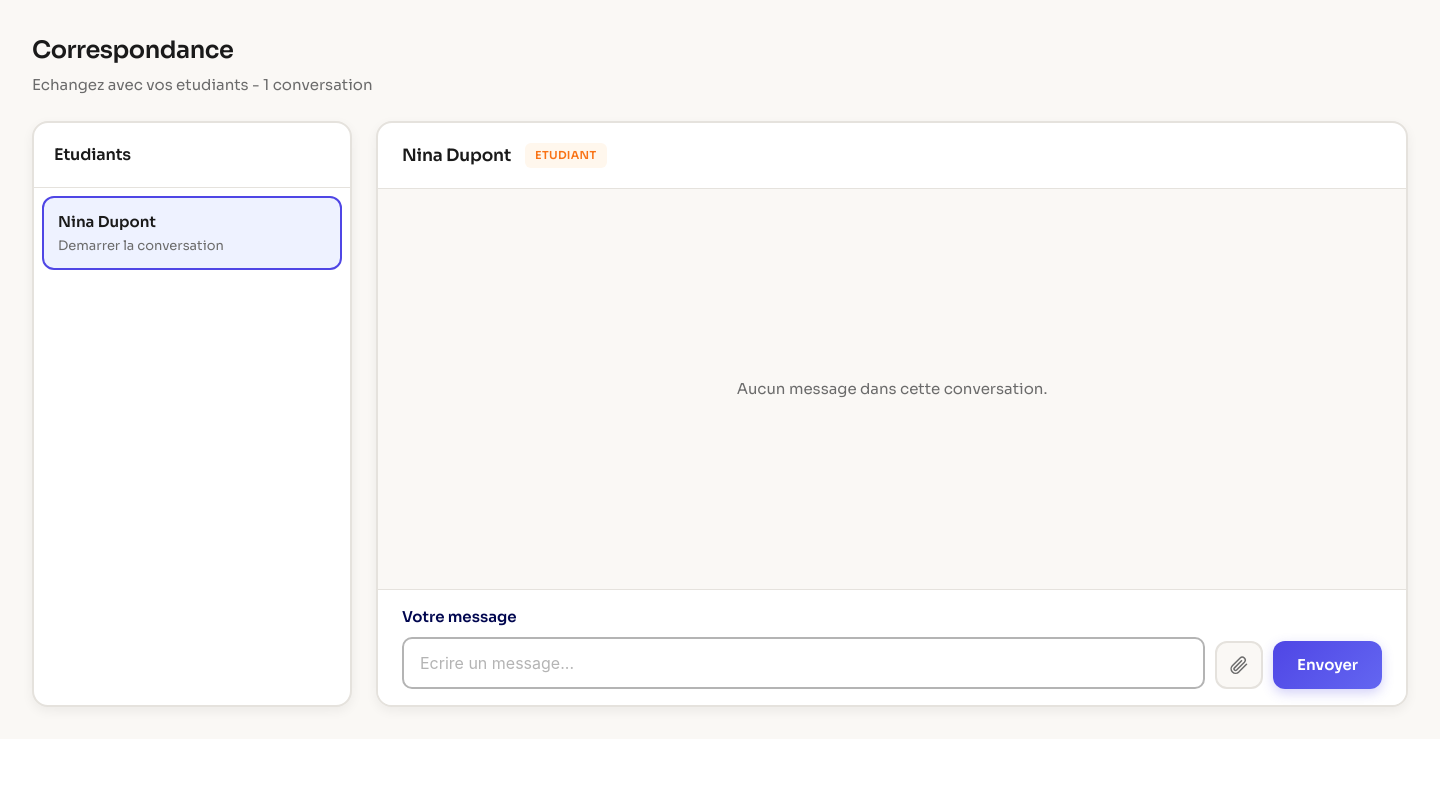
Test case: MentorMessagingPanel › sends a message from mentor to student
The image size is (1440, 810).
In the field labelled "Votre message": (804, 662) [402,636,1205,688], type "Bonjour Nina"
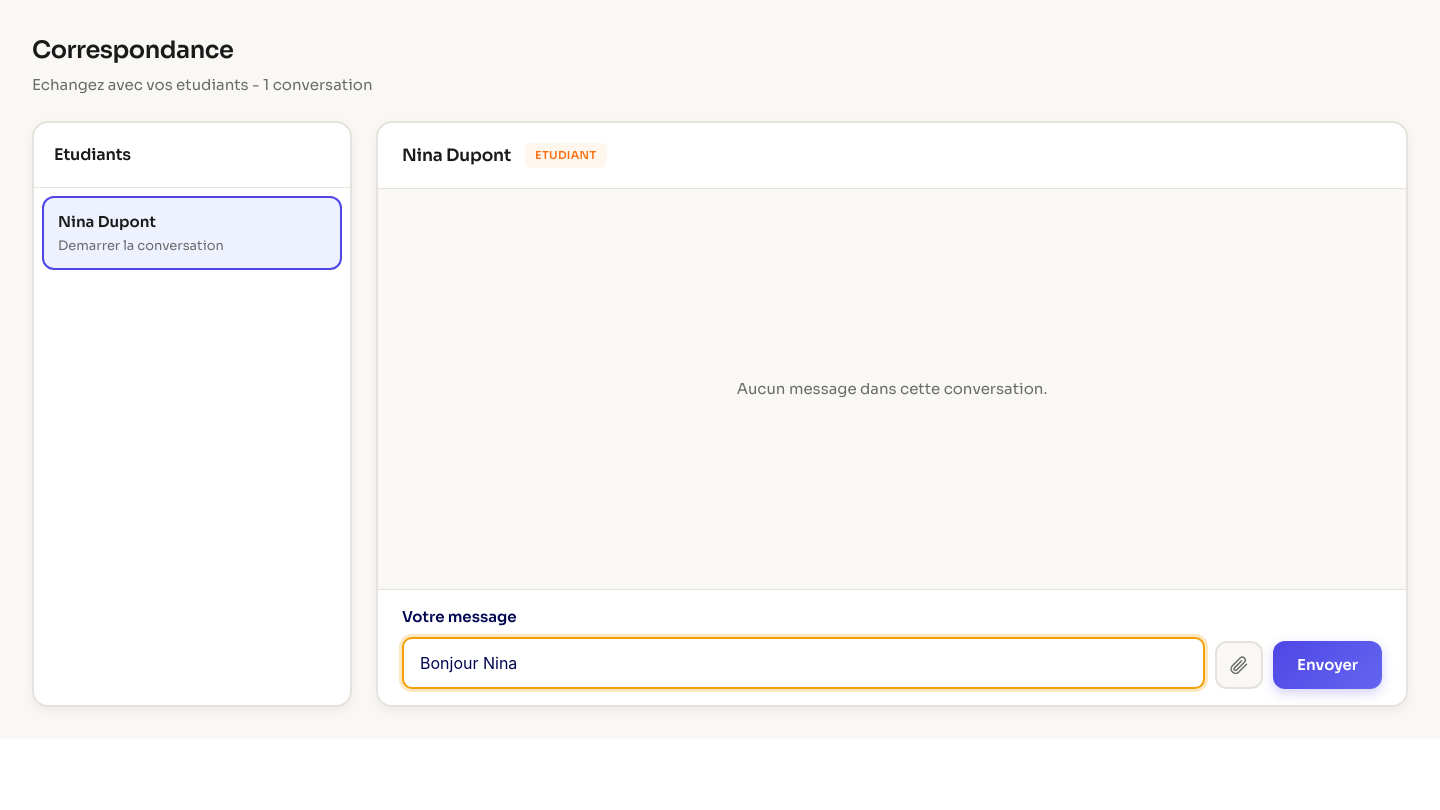
Click the button "Envoyer": click(1328, 664) [1273,640,1382,688]
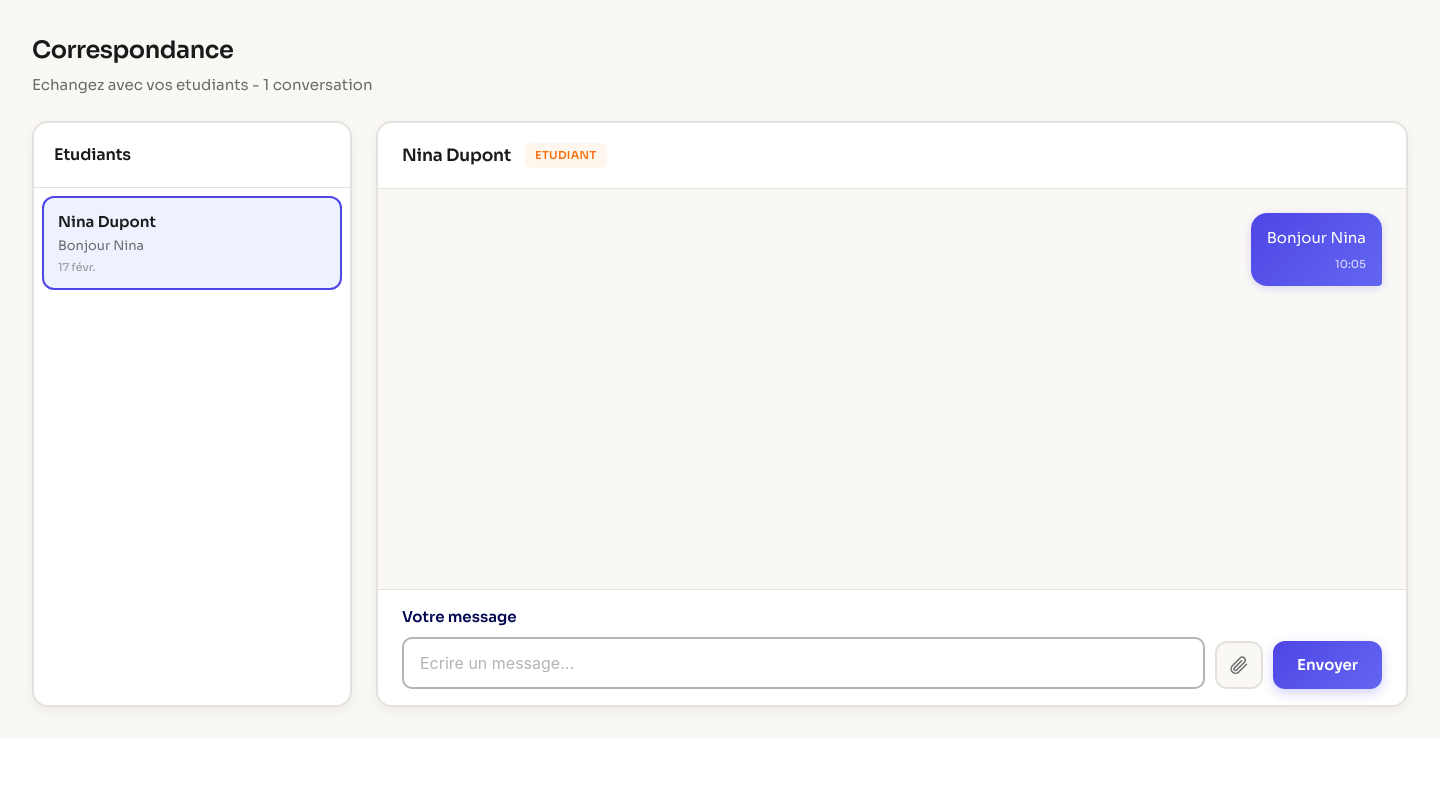
expect the 1st text "Bonjour Nina" is shown: met, box [58,236,144,254]
